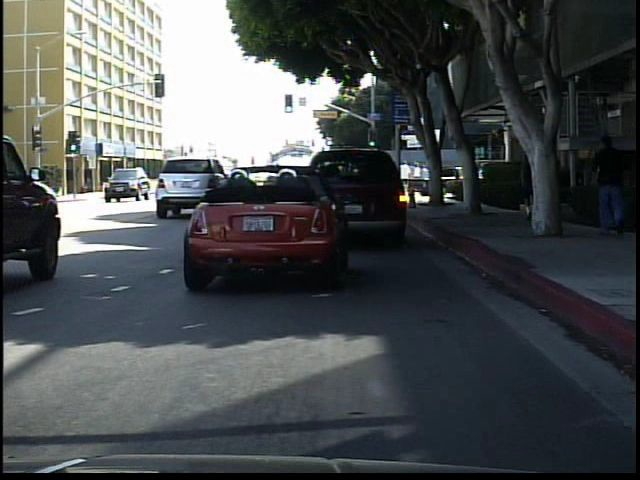person: (587, 132, 631, 239), (514, 145, 543, 227)
